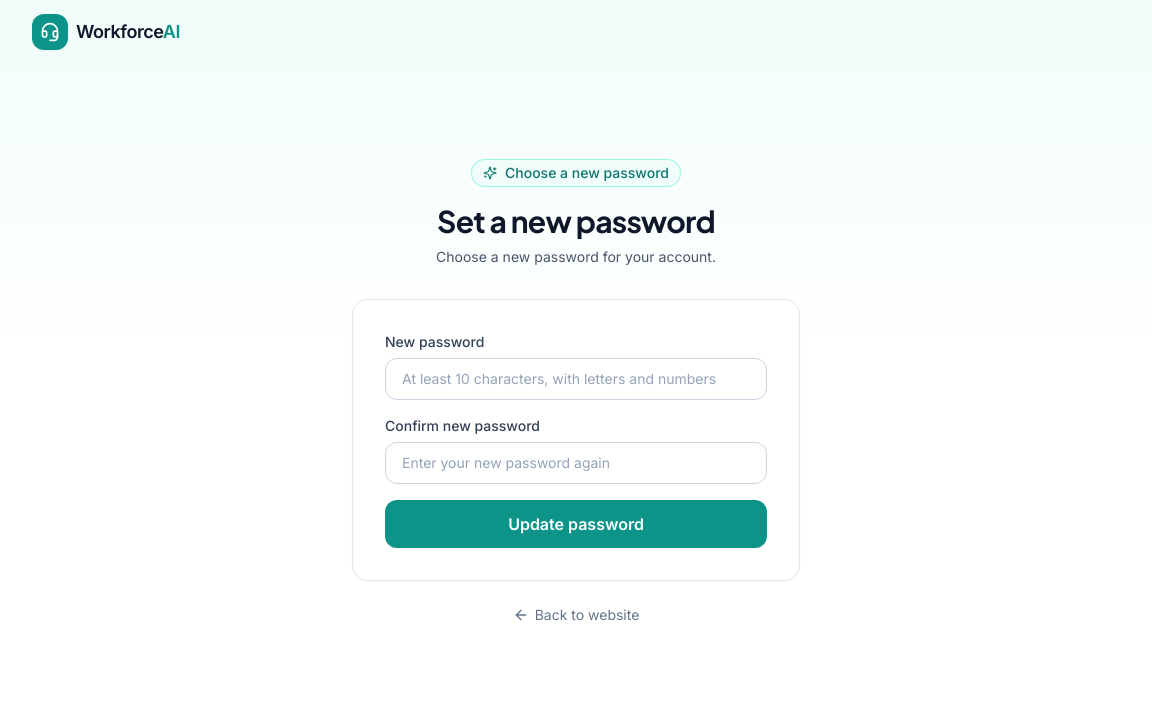
AuthPage password recovery › rejects a new password that is too weak
Type "allletters" into the password field labelled "New password" at (576,379), box [385,358,767,400]
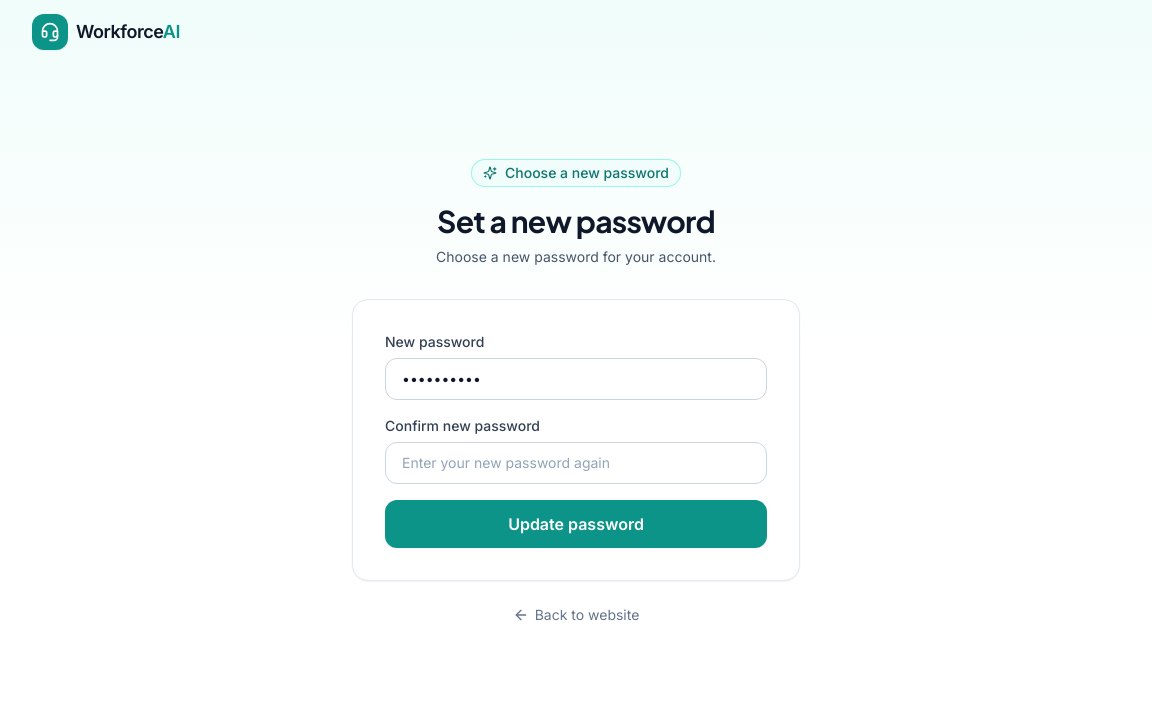
Type "allletters" into the password field labelled "Confirm new password" at (576,463), box [385,442,767,484]
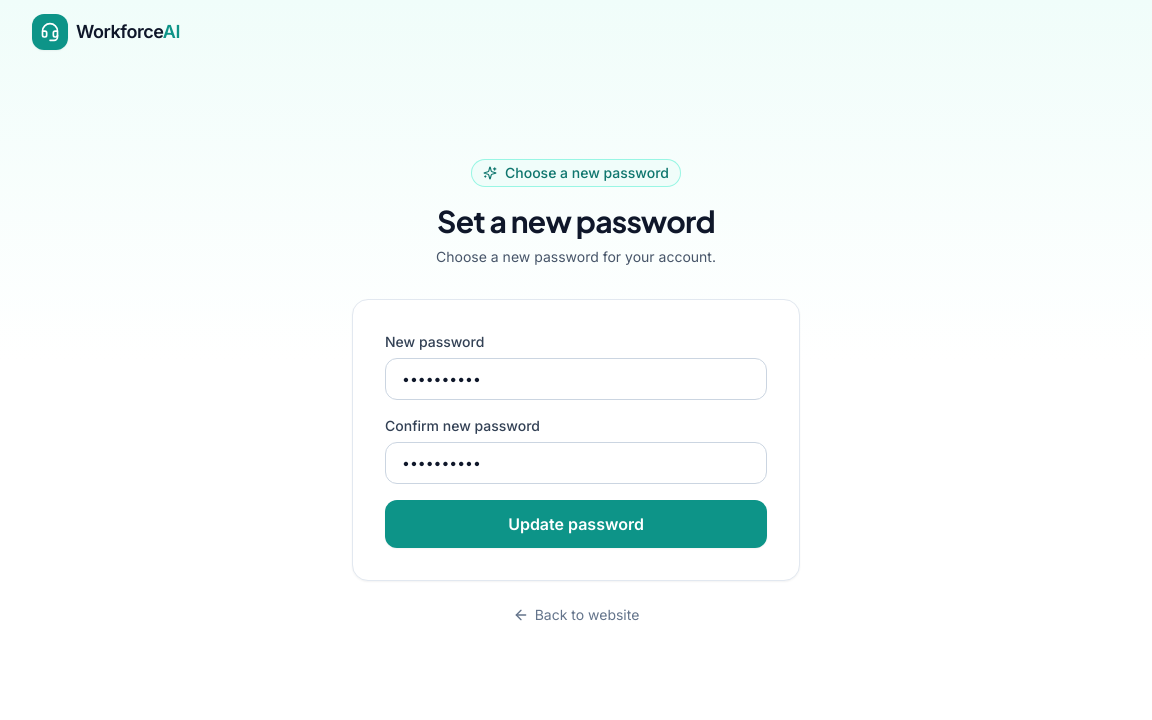
Submit the form "Update password", box [385,332,767,548]
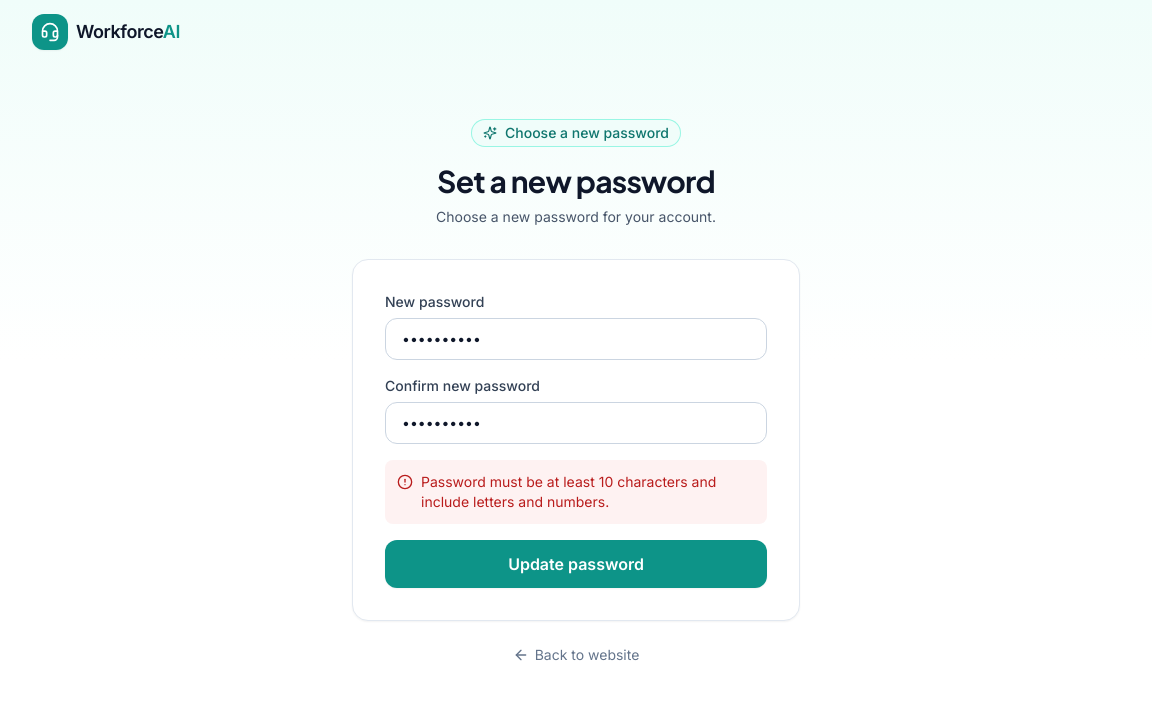
expect the text "at least 10 characters and include letters and numbers" is shown: met, box [421,473,716,510]
